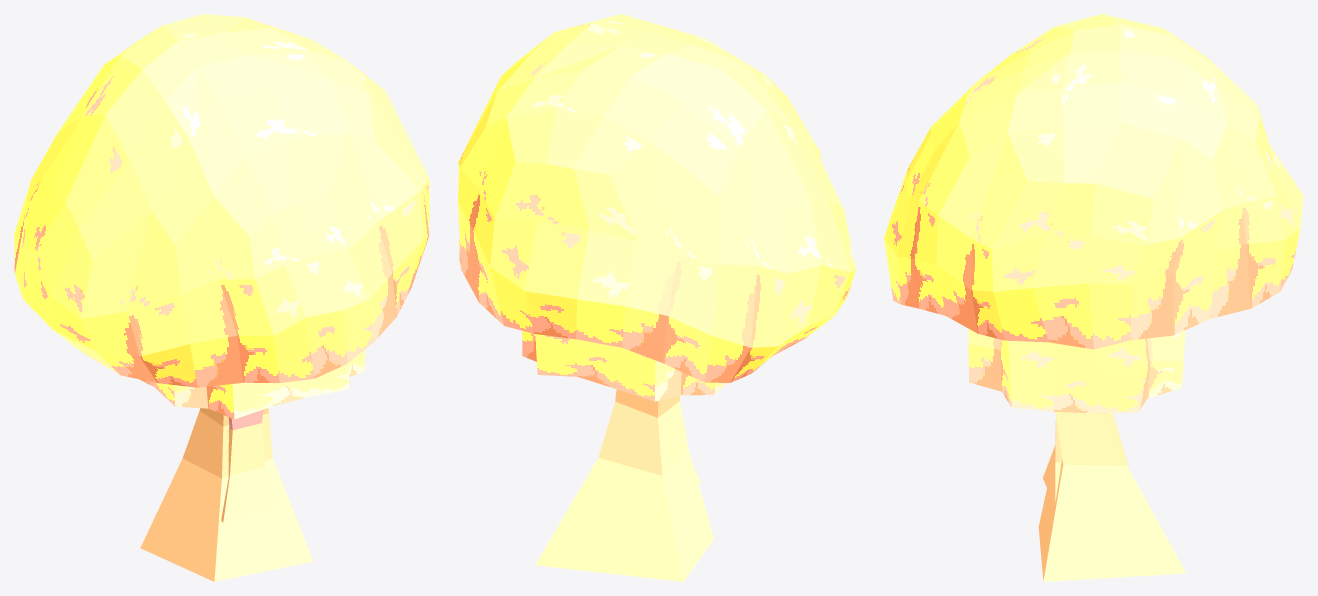
Rendered from trees.glb.
The picture shows the model from 3 angles, left to right: view 1: azimuth 30°, elevation 25°; view 2: azimuth 150°, elevation 25°; view 3: azimuth 270°, elevation 25°; orthographic projection.
Parts seen in each view (by area): view 1: Tree Final 1, Tree Final 2; view 2: Tree Final 1, Tree Final 2; view 3: Tree Final 1, Tree Final 2.
Boxes of the visible parts, bbox=[...] form: Tree Final 1: bbox=[14, 14, 429, 581]; Tree Final 2: bbox=[139, 349, 365, 522]; Tree Final 1: bbox=[458, 14, 855, 581]; Tree Final 2: bbox=[522, 331, 727, 483]; Tree Final 1: bbox=[884, 14, 1303, 581]; Tree Final 2: bbox=[968, 328, 1185, 505].
Size of the model in its own units: 5.78 by 8.17 by 6.08.
